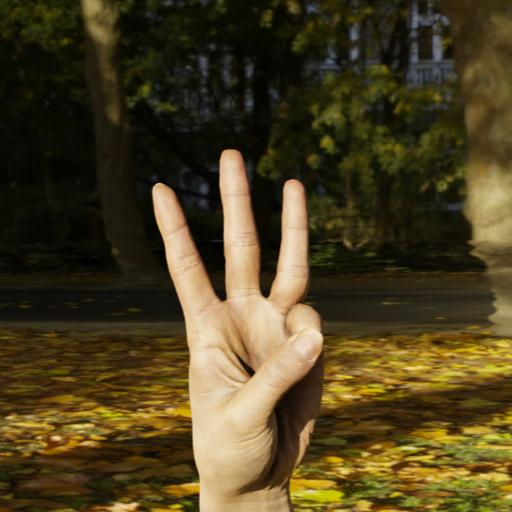W: (145, 147, 335, 512)
